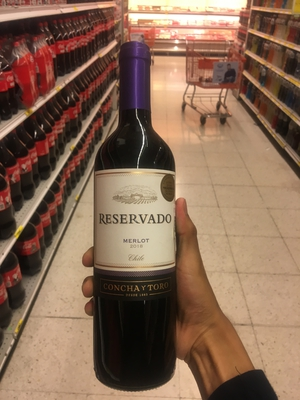reservado merlot: (80, 40, 187, 400)
